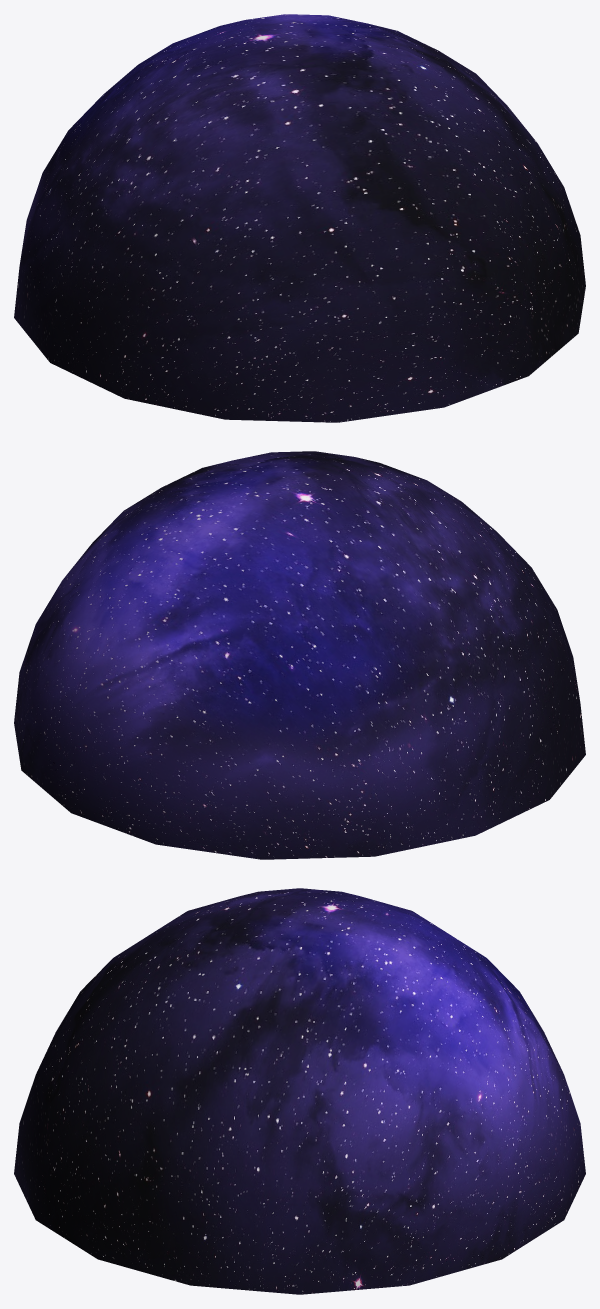
Rendered from dome.fbx.
The picture shows the model from 3 angles, top to bottom: view 1: azimuth 30°, elevation 25°; view 2: azimuth 150°, elevation 25°; view 3: azimuth 270°, elevation 25°; orthographic projection.
Parts seen in each view (by area): view 1: dome; view 2: dome; view 3: dome.
Boxes of the visible parts, box(x1,y1,x2,y2) form: dome: box(14, 14, 585, 422); dome: box(14, 451, 585, 859); dome: box(14, 888, 585, 1294).
Bounding box in the file's own units: 200 × 100 × 200.
1 material, 1 textured.
